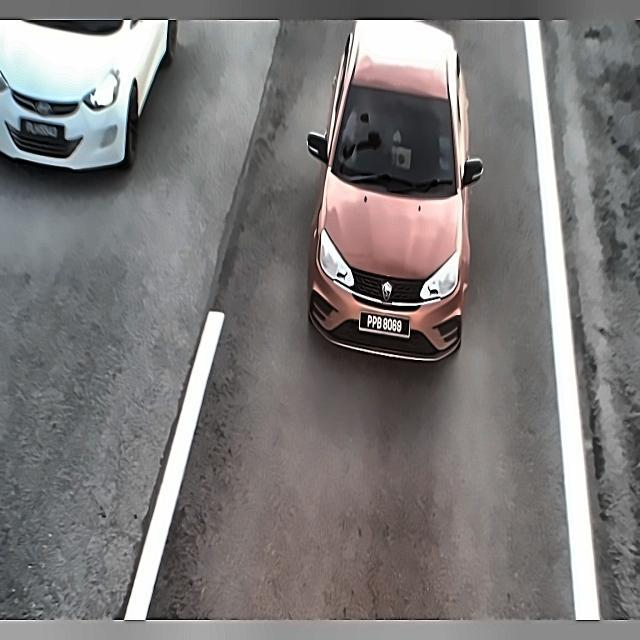car: (358, 310, 415, 340), (20, 113, 67, 148)
